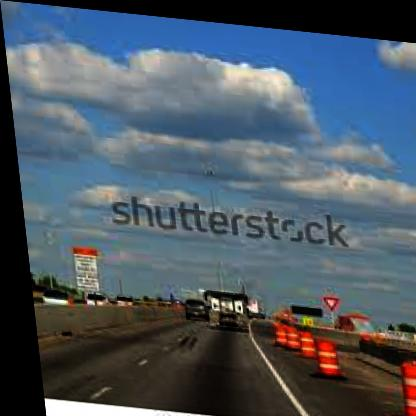obstacle: (380, 352, 416, 415), (304, 334, 334, 372)
